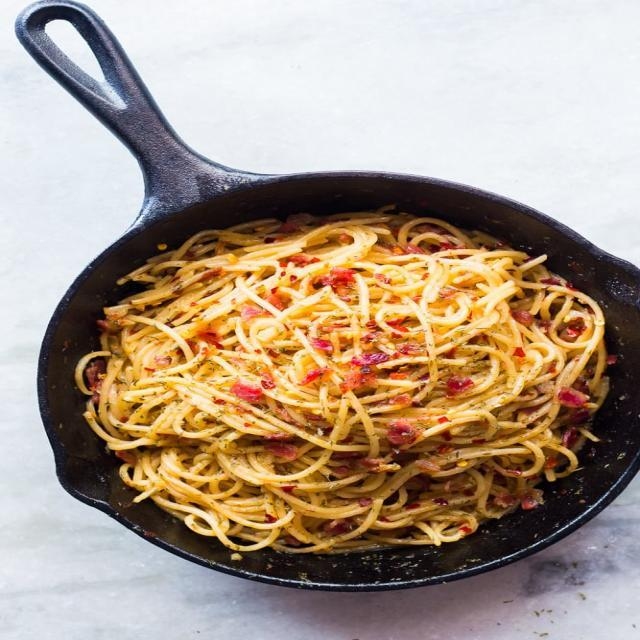Oil pasta: (42, 196, 618, 583)
